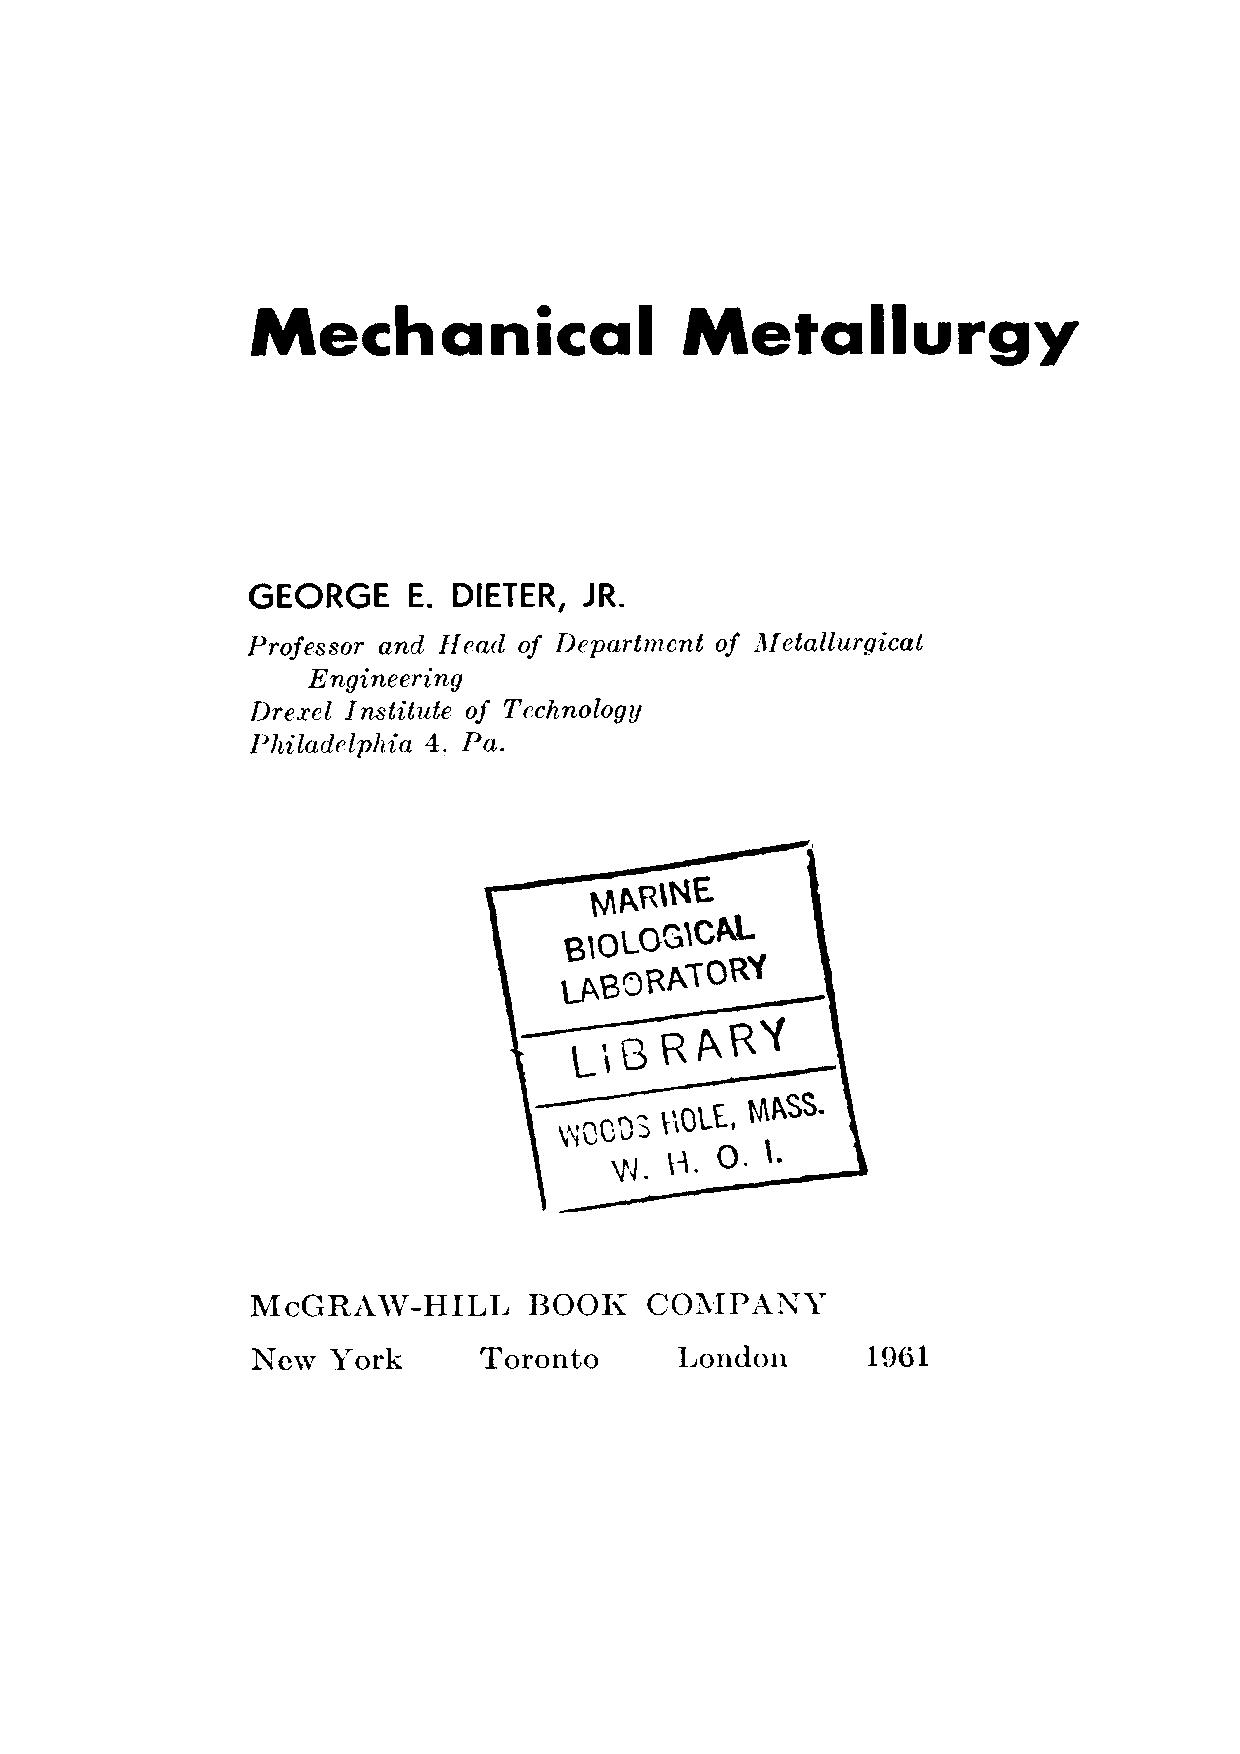author: (246, 578, 628, 615)
title: (246, 301, 1083, 370)
